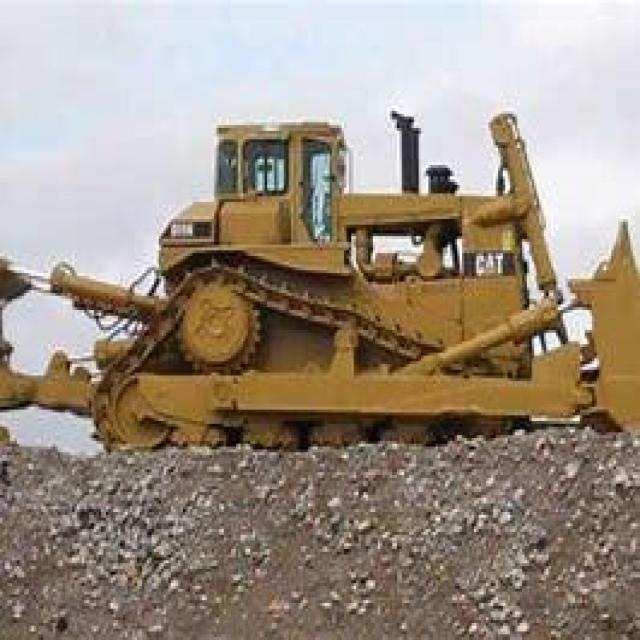buldozerpayloadergrader: (2, 74, 638, 509)
